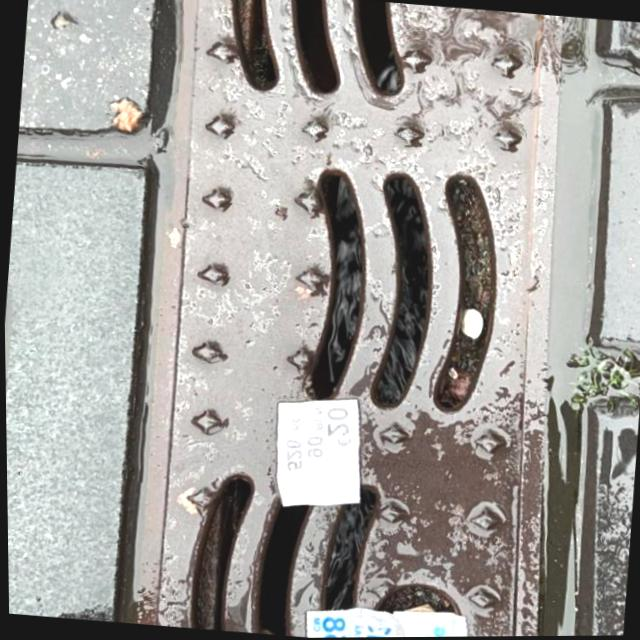Paper: (263, 389, 370, 516), (299, 599, 475, 638)
